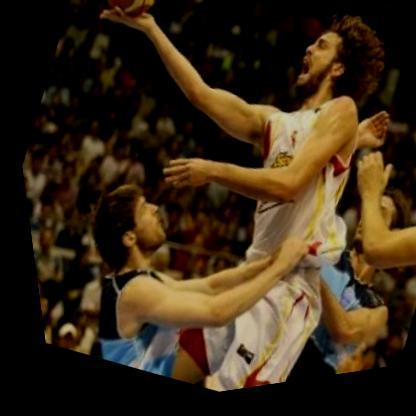basketball: (88, 0, 183, 40)
